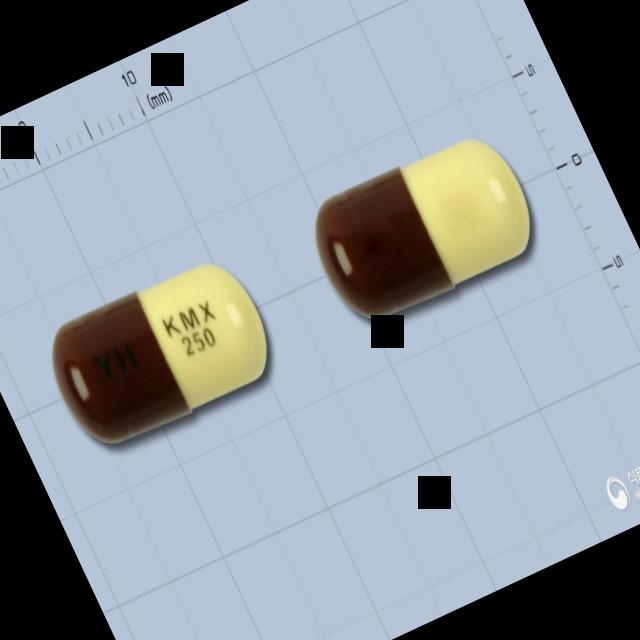Kymoxin Cap: (34, 245, 286, 460)
